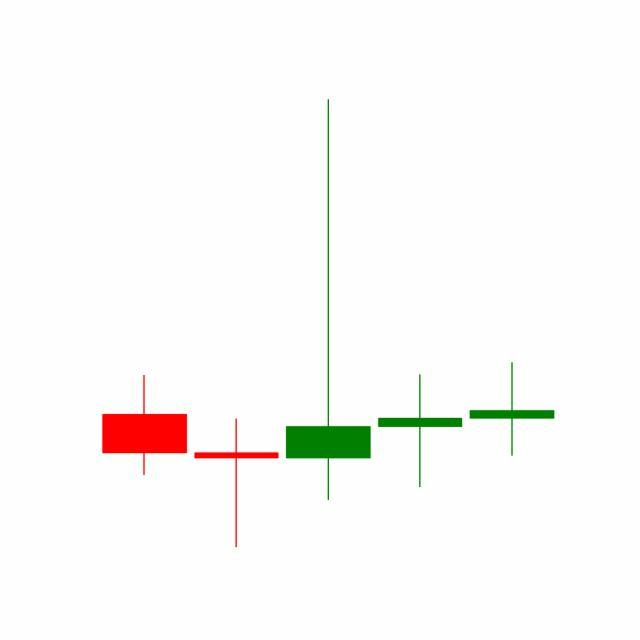Spinning Top: (374, 373, 468, 490)
